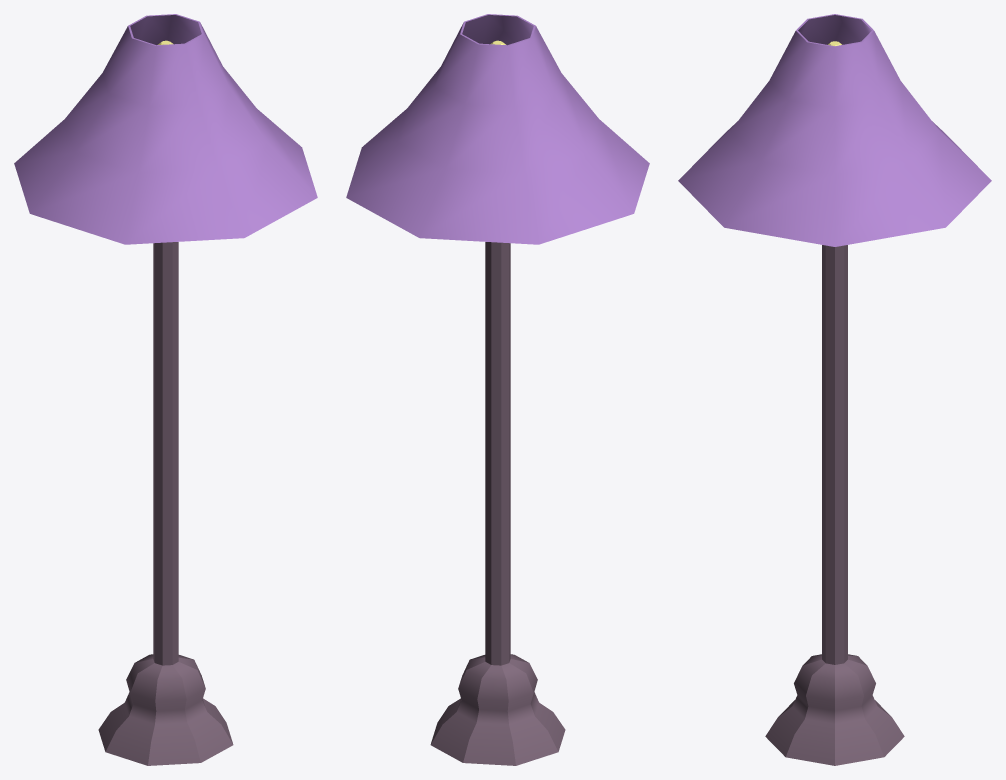
File: Lamp.fbx
3 renders of one model, left to right at view 1: azimuth 30°, elevation 25°; view 2: azimuth 150°, elevation 25°; view 3: azimuth 270°, elevation 25°, orthographic.
Visible parts, largest first — view 1: pCone4; view 2: pCone4; view 3: pCone4.
Part boxes in pixels (x1,y1,x2,y2): pCone4: (14,14,317,765); pCone4: (346,14,649,765); pCone4: (678,14,991,765).
Bounding box in the file's own units: 4.15 × 10.29 × 4.15.
